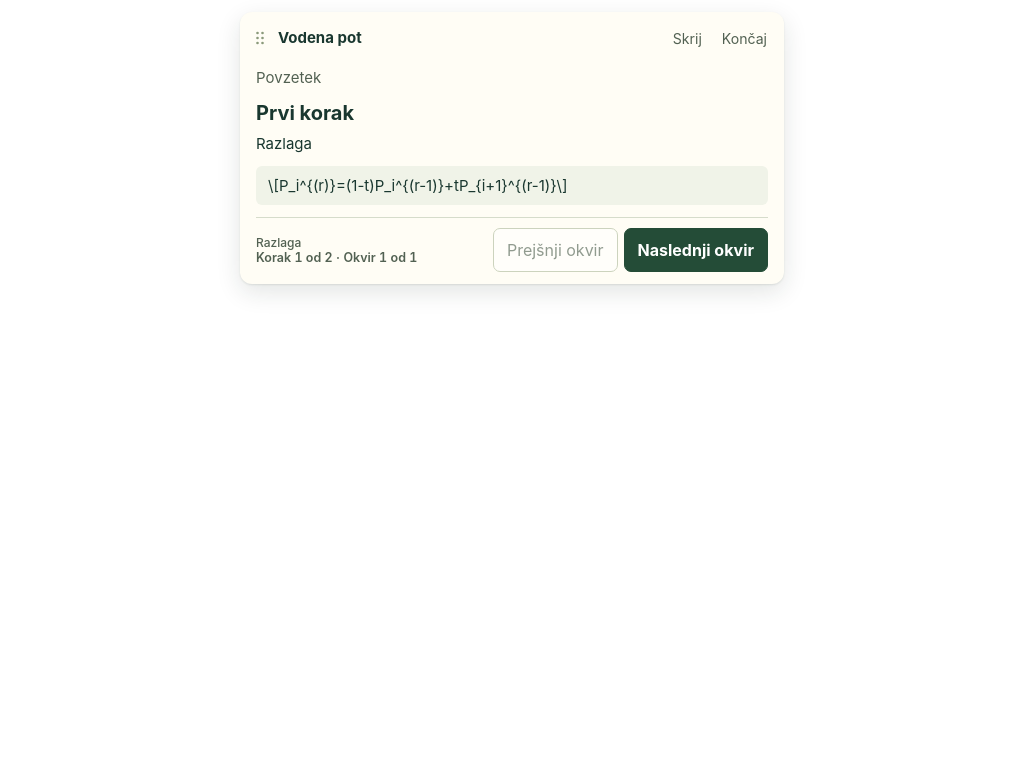
it: failed checkpoint restoration keeps the lesson and dialog available for recovery
The width and height of the screenshot is (1024, 768).
Click the button with aria-label "Končaj vodeni primer".
click(744, 38)  # box [713,16,776,60]
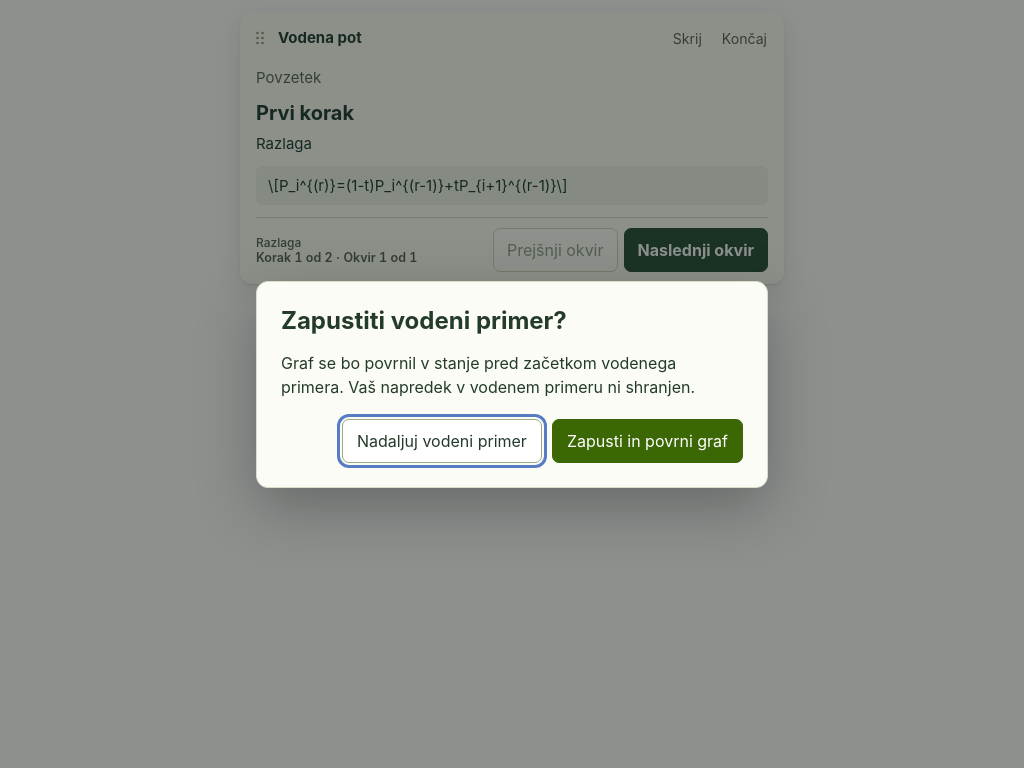
Click the button "Zapusti in povrni graf".
click(647, 440)  # box [552,418,743,462]
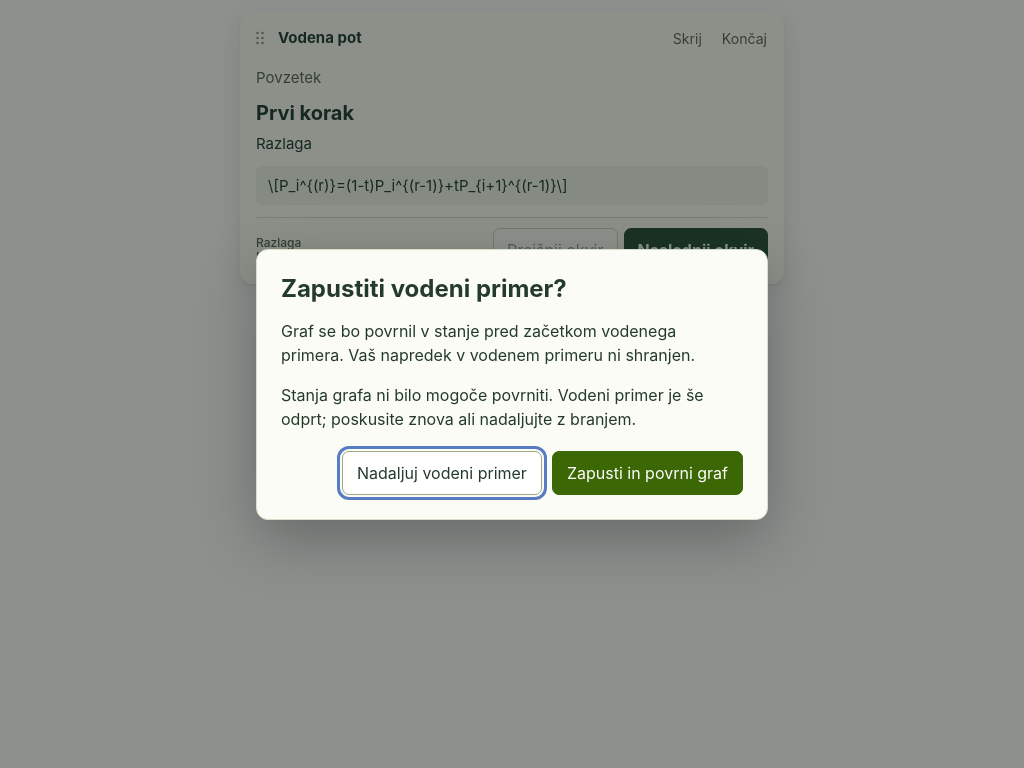
Expected: the heading "Prvi korak" is shown, [256,101,354,125]
Expected: the dialog is shown, [256,248,768,520]
Expected: the message shows "Stanja grafa ni bilo mogoče povrniti", [281,384,704,428]
